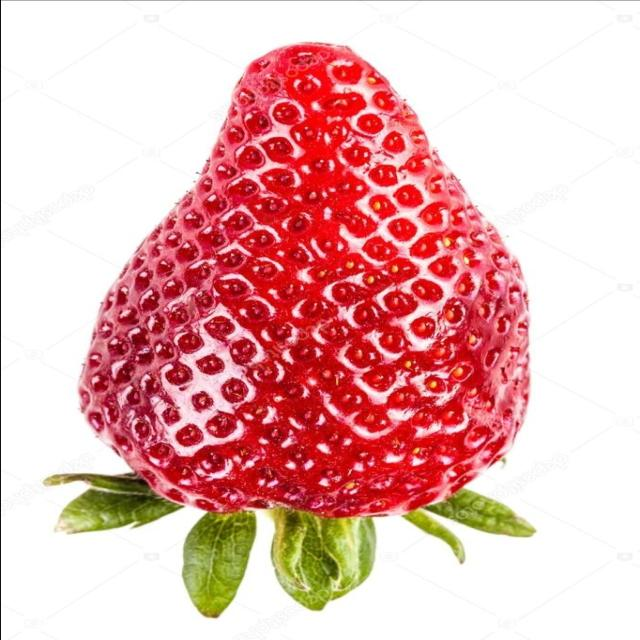strawberry: (0, 24, 583, 630)
